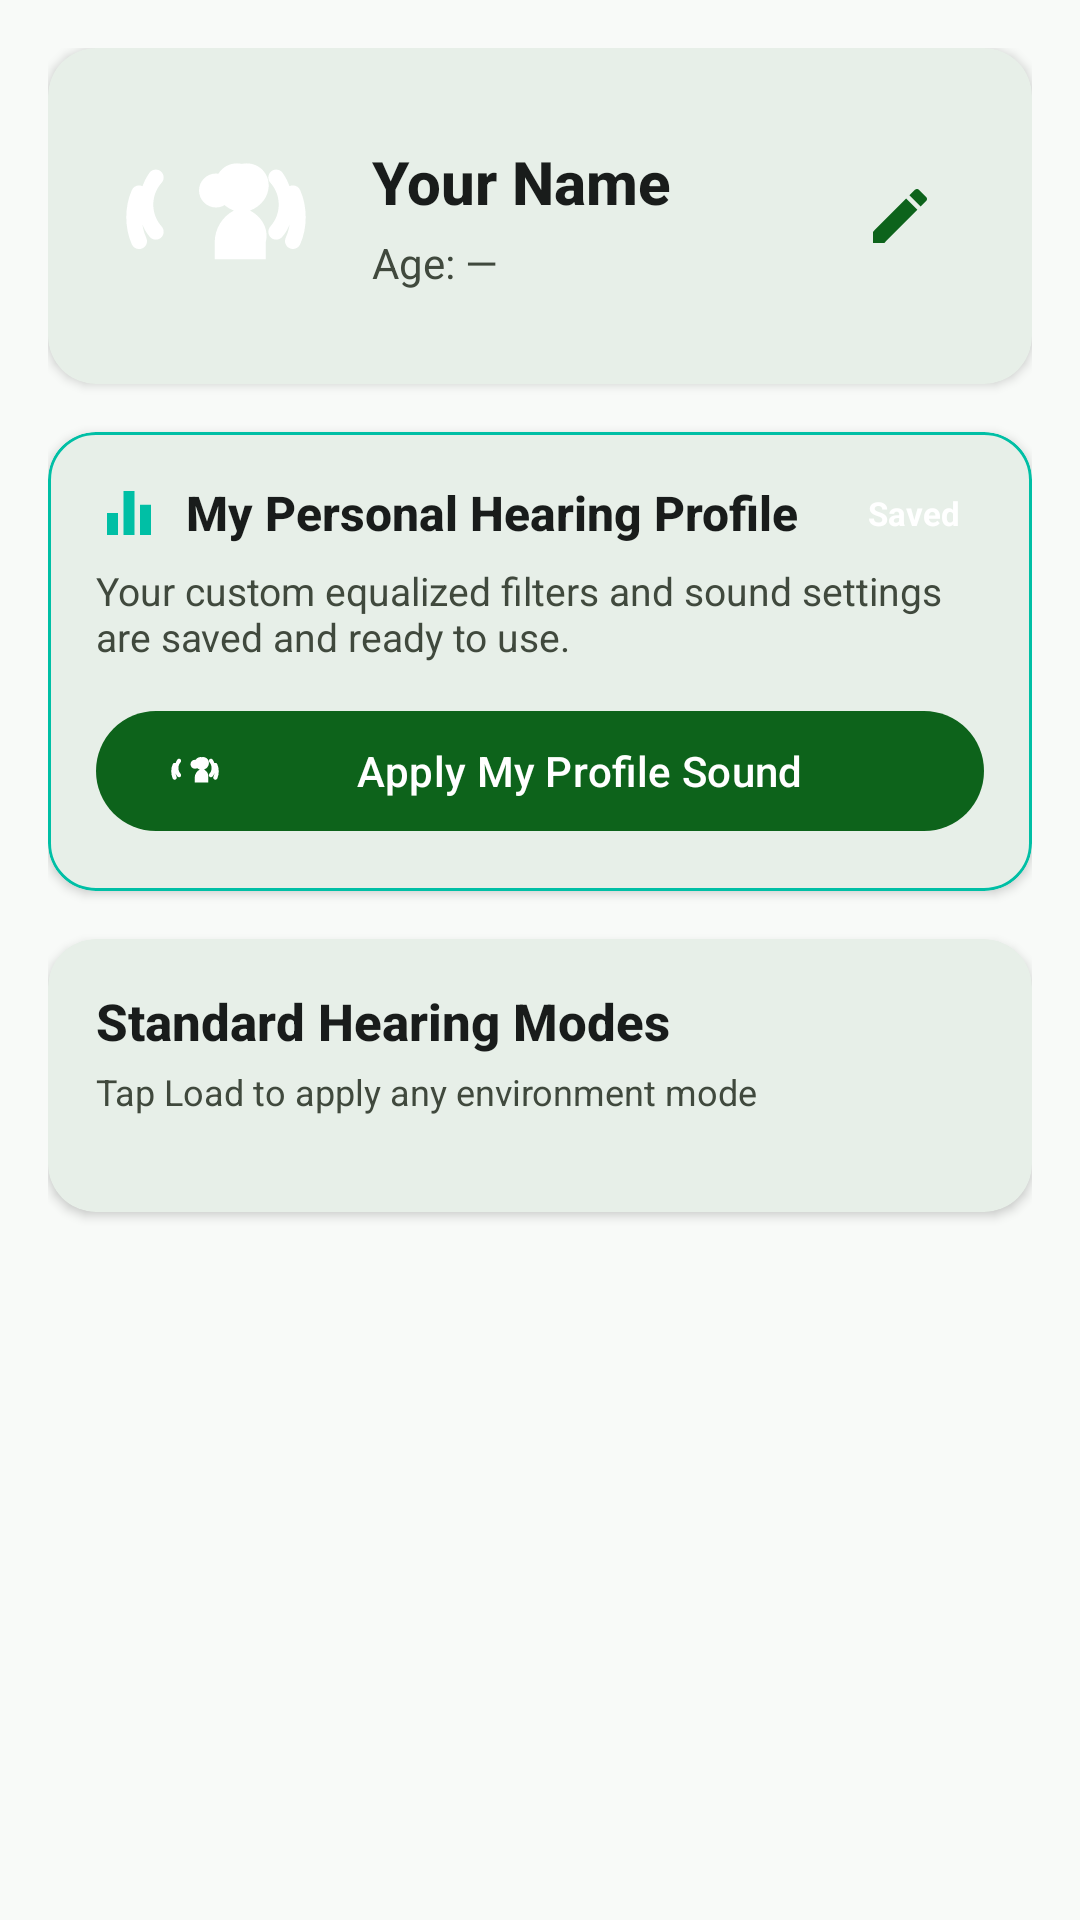

Icon click points for this 1080 × 1920 phone screenshot, format (x=x, y=y):
equalizer: (x=129, y=513)
